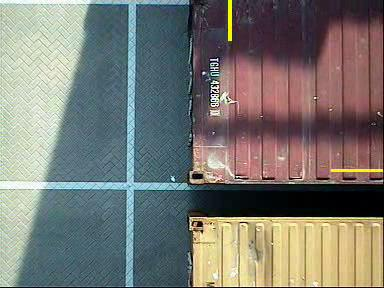groundmarker_2: (100, 233, 170, 269), (100, 63, 170, 98)
